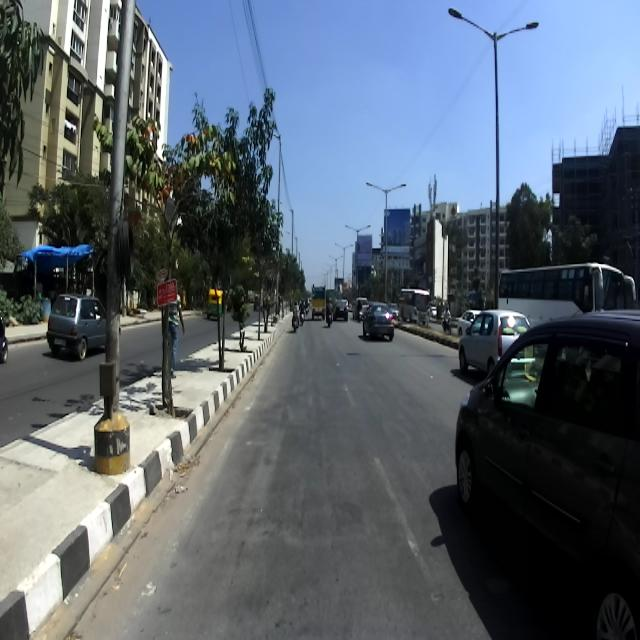car ahead at: (451, 306, 640, 640)
